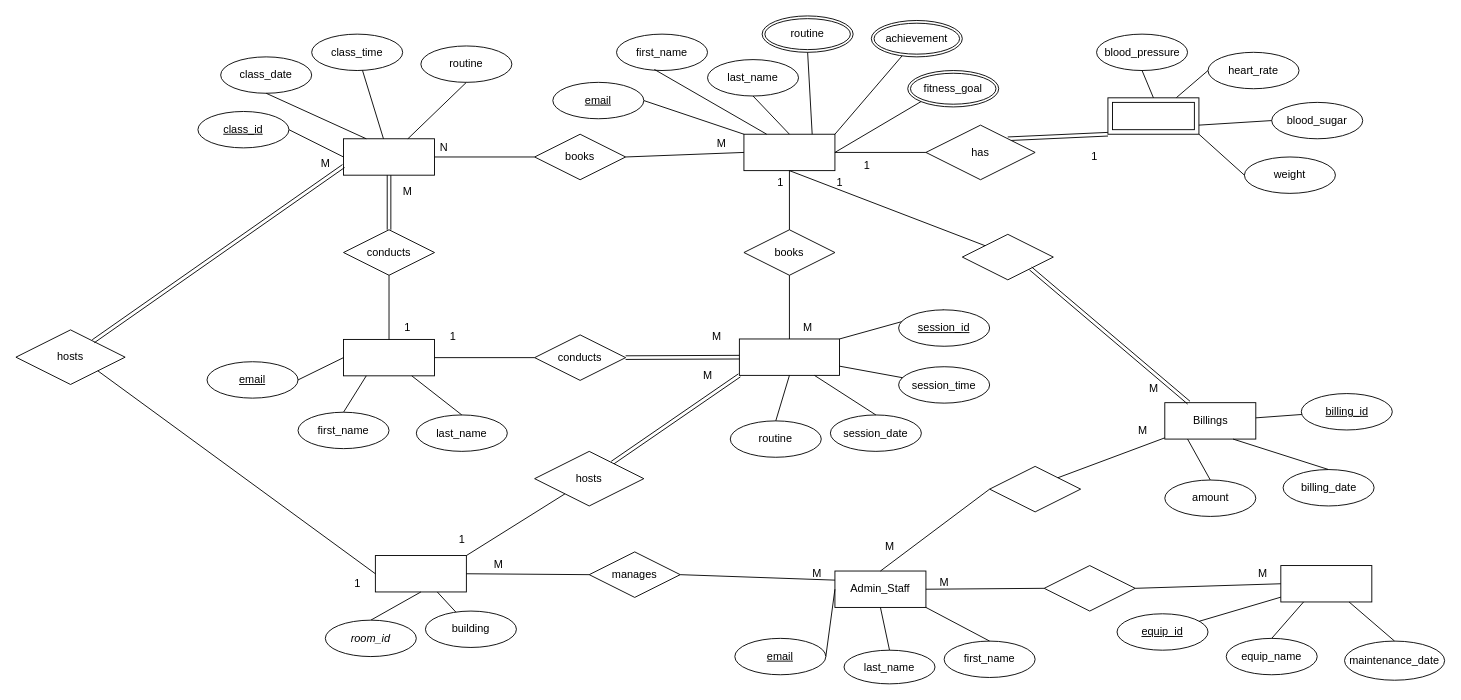
Image size: 1461x700. Some labels were removed from this diagram. Here are the shapes that lost their labels. From the top down, the centre of each, then its label:
(1153,115): Health_metrics
(389,156): Group_classes
(789,152): Members
(1007,256): pay
(389,357): Trainer
(788,356): Personal_sessions
(1035,488): process
(420,573): Rooms
(1089,588): monitors
(1326,583): Equipment
